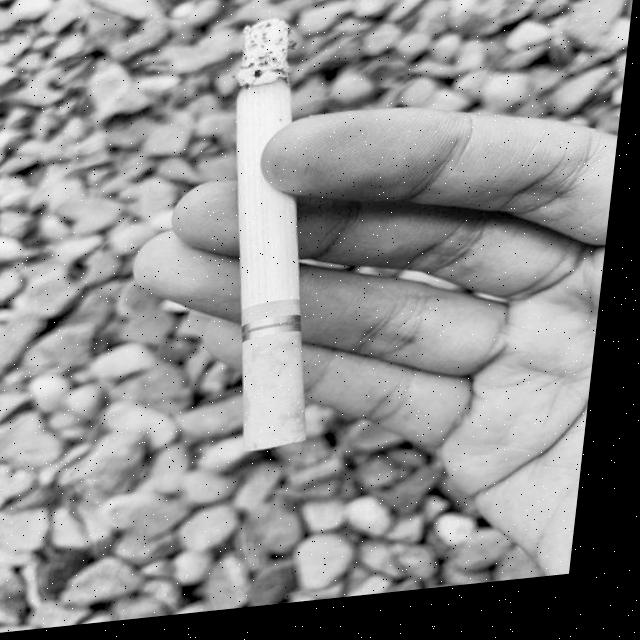cigarette: (207, 18, 355, 462)
